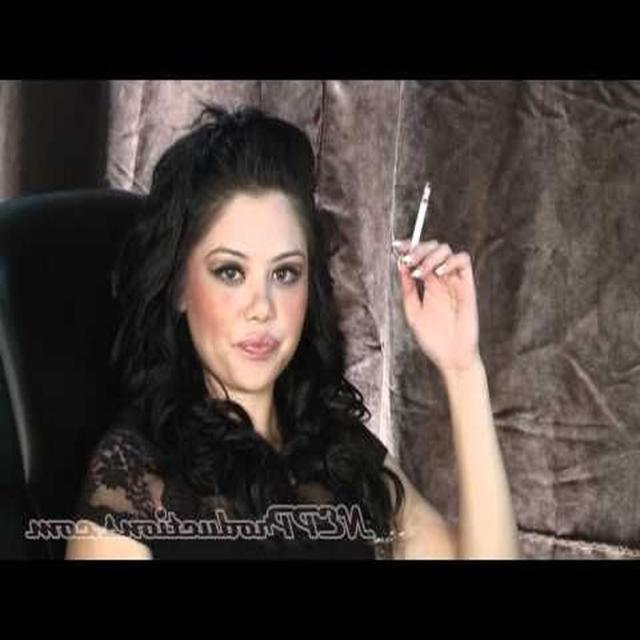smoking: (155, 148, 492, 444)
